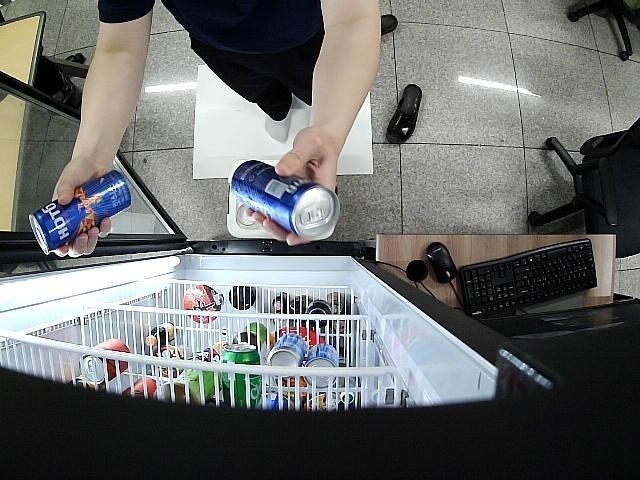16_hot6: (230, 160, 342, 244), (26, 170, 133, 252)
